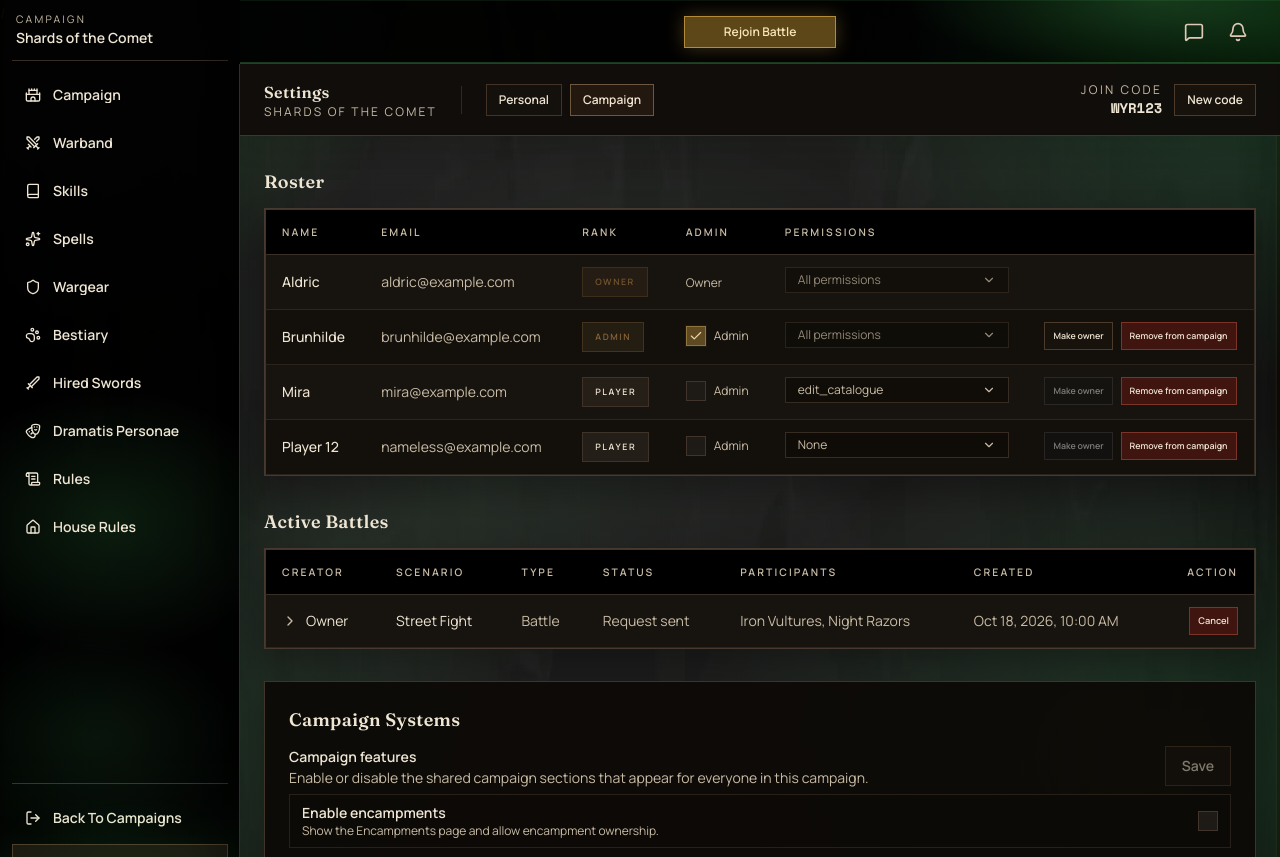
Scenario: Cancelling from Active Battles (BATL-NEW-03) › takes the header's Rejoin away at once: the open battles are read again
expect the button "Rejoin Battle" is shown: met, box [684,16,836,48]
Click the button "Cancel".
click(1214, 621)  # box [1189,607,1238,635]
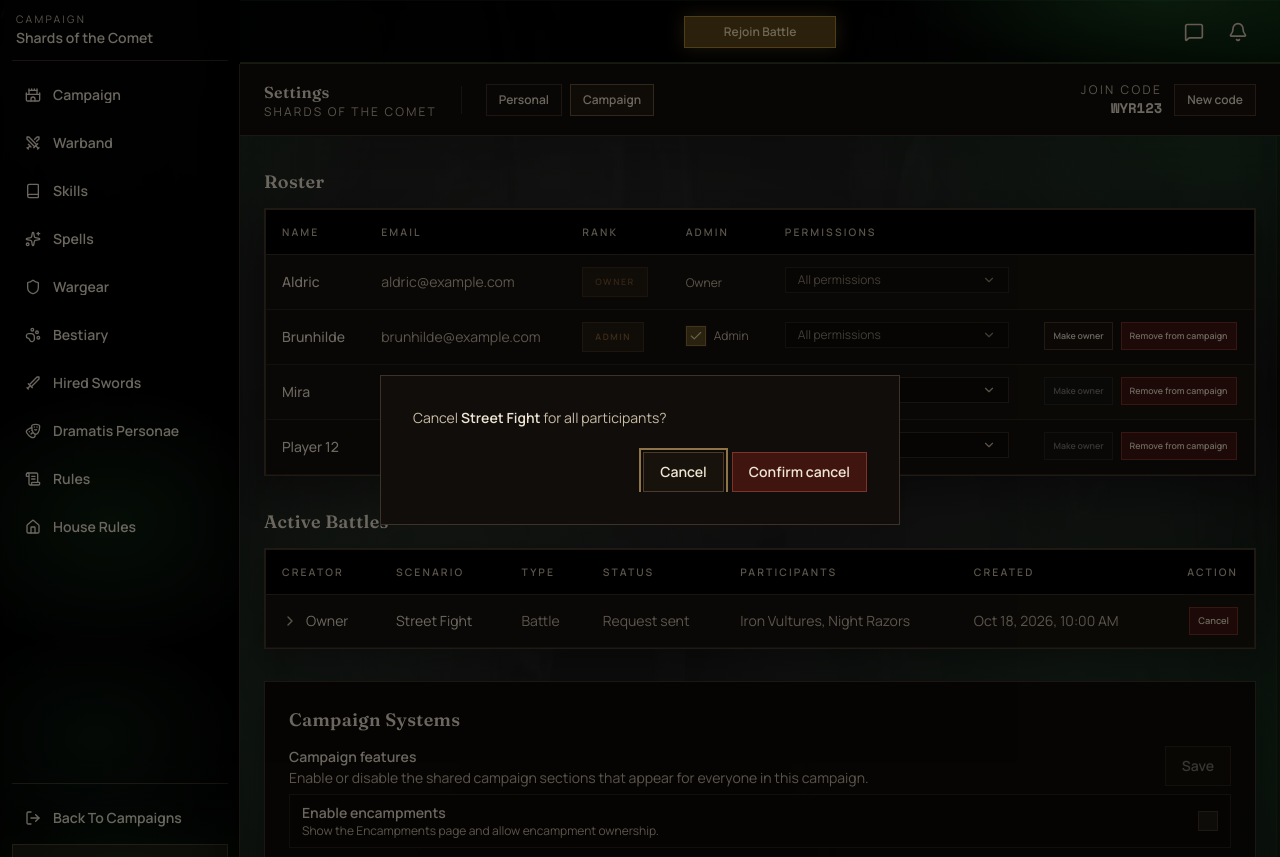
Click the button "Confirm cancel".
click(799, 472)  # box [732,452,867,492]
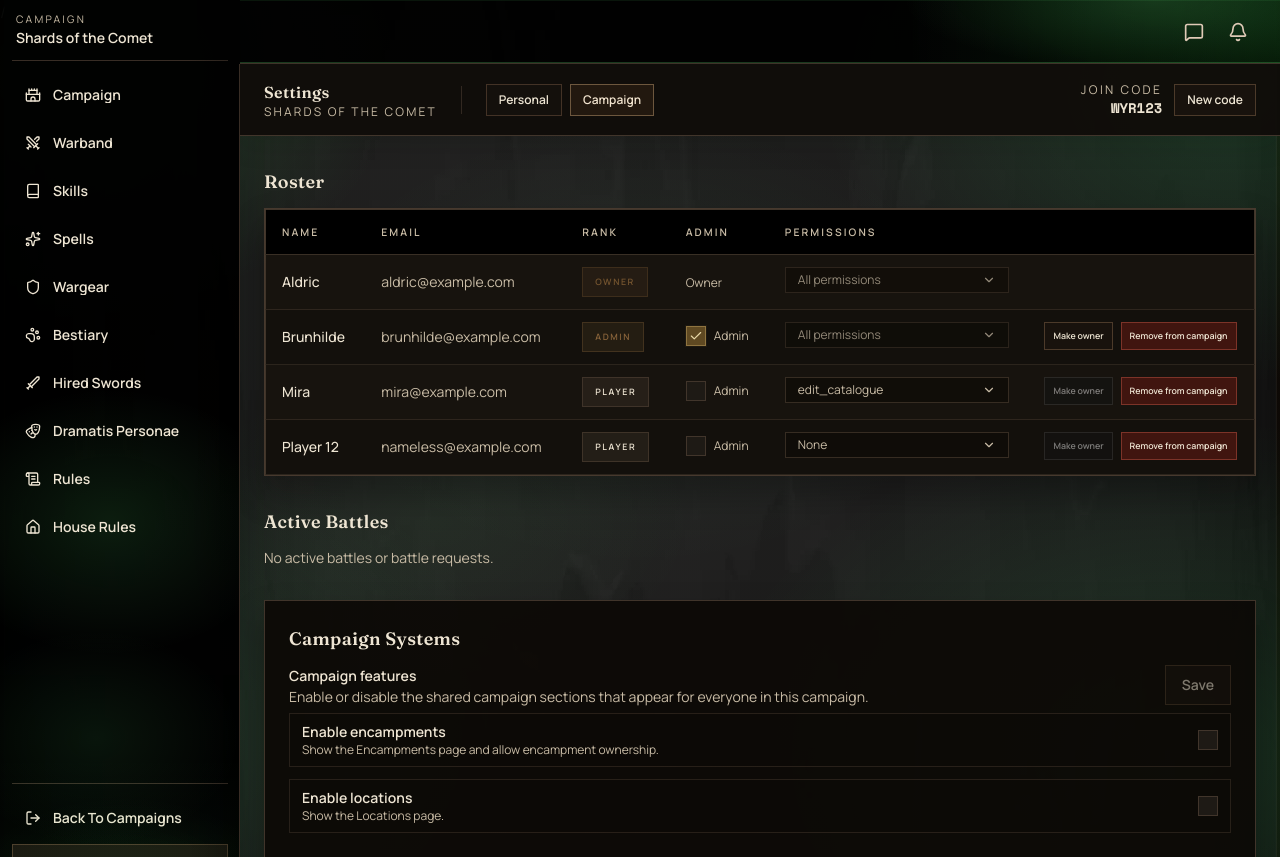
expect the button "Rejoin Battle" is gone: met
